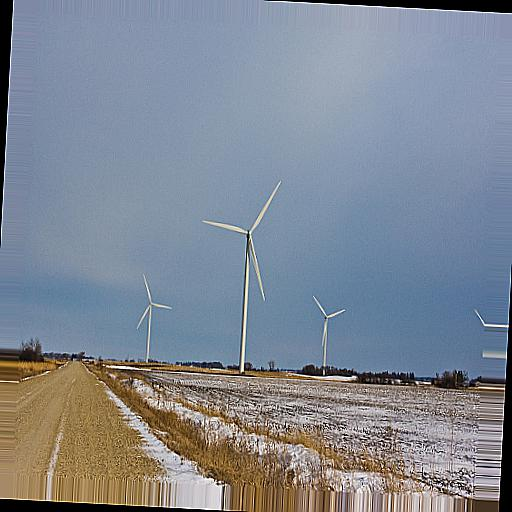wind turbine: (201, 180, 283, 370), (134, 273, 173, 359), (307, 293, 348, 372)
